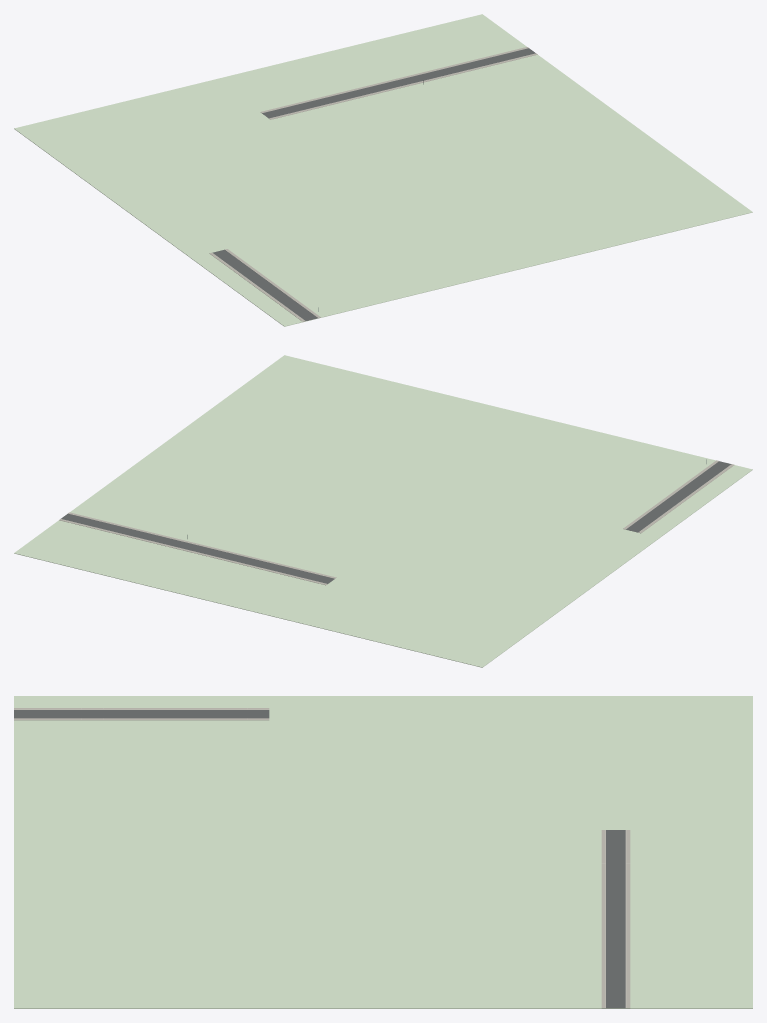
File: chunk_4_4_low.glb
3 renders of one model, top to bottom at view 1: azimuth 30°, elevation 25°; view 2: azimuth 150°, elevation 25°; view 3: azimuth 270°, elevation 25°, orthographic. The views are drawn at different scales.
Visible parts, largest first — view 1: city_grass, city_world_asphalt, city_world_sidewalk, city_curb; view 2: city_grass, city_world_asphalt, city_world_sidewalk, city_curb; view 3: city_grass, city_world_asphalt, city_world_sidewalk, city_curb.
Boxes of the visible parts, x1,y1,x2,y2 form: city_grass: (14,14,752,326); city_world_asphalt: (212,48,535,320); city_world_sidewalk: (209,47,537,321); city_curb: (213,48,535,320); city_grass: (14,355,752,667); city_world_asphalt: (61,461,731,583); city_world_sidewalk: (59,460,734,585); city_curb: (61,461,731,583); city_grass: (14,696,752,1008); city_world_asphalt: (14,710,625,1008); city_world_sidewalk: (14,708,630,1008); city_curb: (14,708,629,1007).
Size of the model in its own units: 512 by 5.41 by 512.
